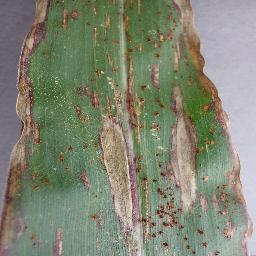Corn_Blight: (199, 141, 253, 256), (96, 109, 146, 228), (168, 84, 199, 211), (85, 0, 117, 107), (7, 68, 47, 152), (165, 0, 211, 67), (12, 0, 56, 68), (200, 69, 237, 141), (147, 79, 167, 209), (120, 0, 144, 106), (145, 212, 199, 256), (0, 198, 31, 256), (3, 156, 50, 192), (93, 228, 143, 256), (145, 0, 161, 77), (54, 140, 91, 165), (59, 0, 80, 29), (52, 224, 69, 255), (73, 82, 85, 118), (32, 225, 45, 254), (169, 69, 198, 82), (80, 161, 90, 194), (86, 208, 95, 223)
